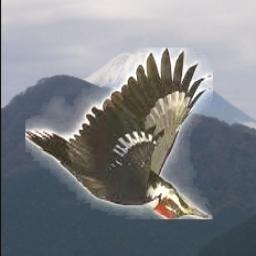Woodpecker: (25, 49, 213, 220)
